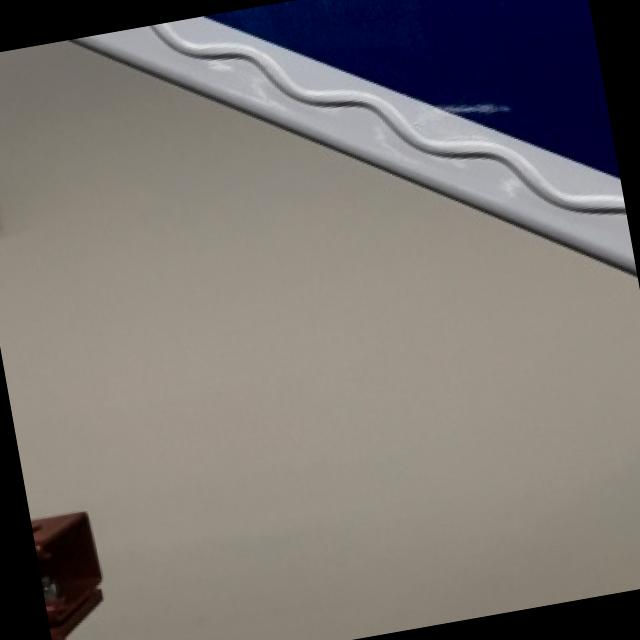healthy: (0, 39, 640, 640)
